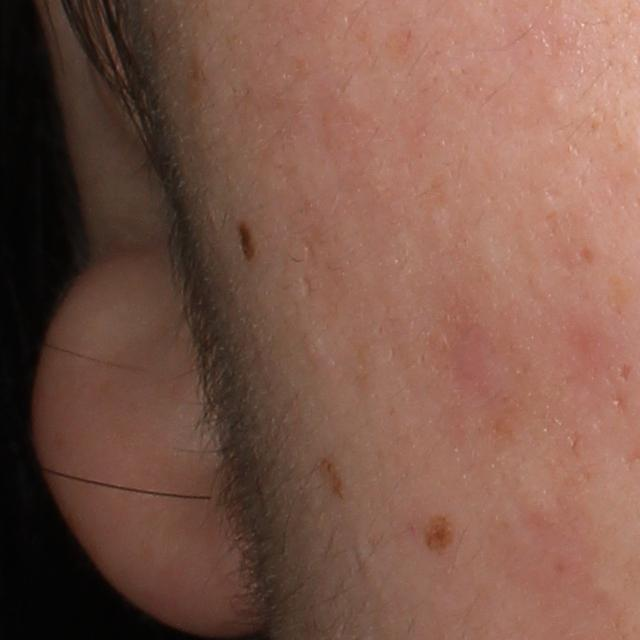atrophic_scar: (617, 361, 636, 382)
comedo: (541, 83, 569, 110)
nevus: (398, 511, 474, 580), (229, 215, 273, 275), (311, 447, 349, 501)
